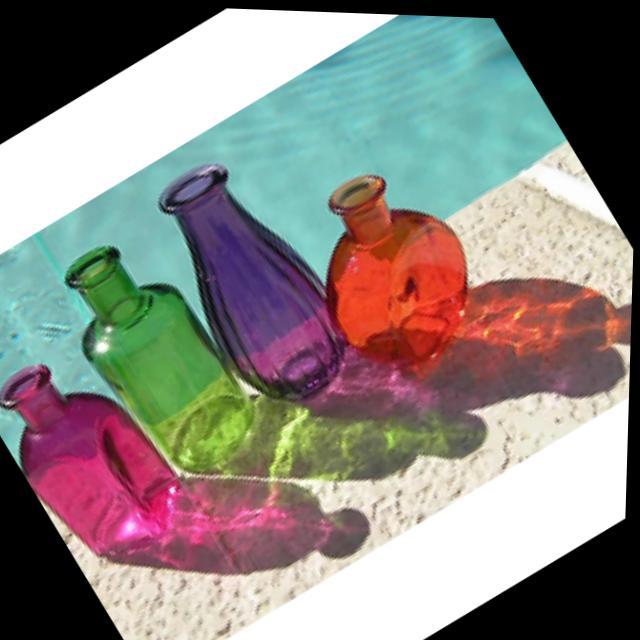glass_beverage_bottles: (134, 141, 372, 423), (37, 209, 275, 490), (275, 134, 514, 390), (0, 322, 189, 572)
